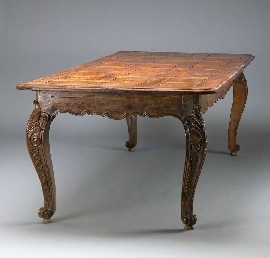obstacle: (16, 51, 254, 229)
